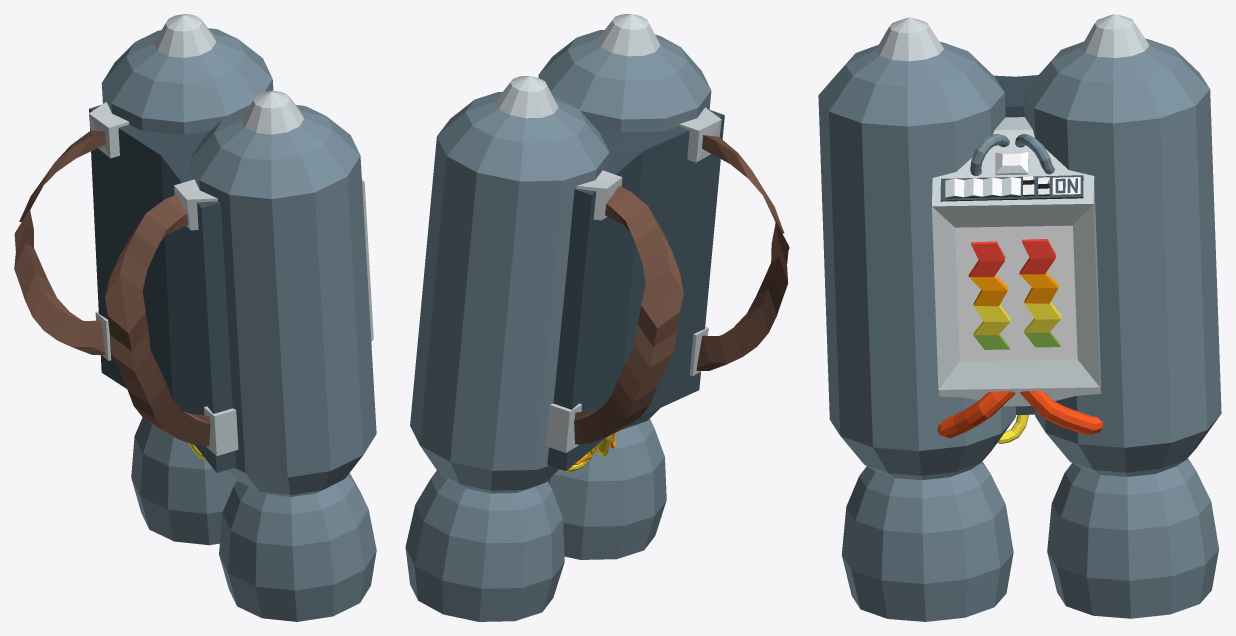
The model's file is jetpack.glb.
3 views of the same model, side by side, from view 1: azimuth 30°, elevation 25°; view 2: azimuth 150°, elevation 25°; view 3: azimuth 270°, elevation 25° (orthographic). The views are drawn at different scales.
Parts seen in each view (by area): view 1: group985480063; view 2: group985480063; view 3: group985480063.
Part boxes in pixels (x1=…): group985480063: x1=14, y1=14, x2=376, y2=621; group985480063: x1=405, y1=14, x2=789, y2=621; group985480063: x1=818, y1=14, x2=1221, y2=621.
Bounding box in the file's own units: 1.97 × 3.51 × 2.25.
